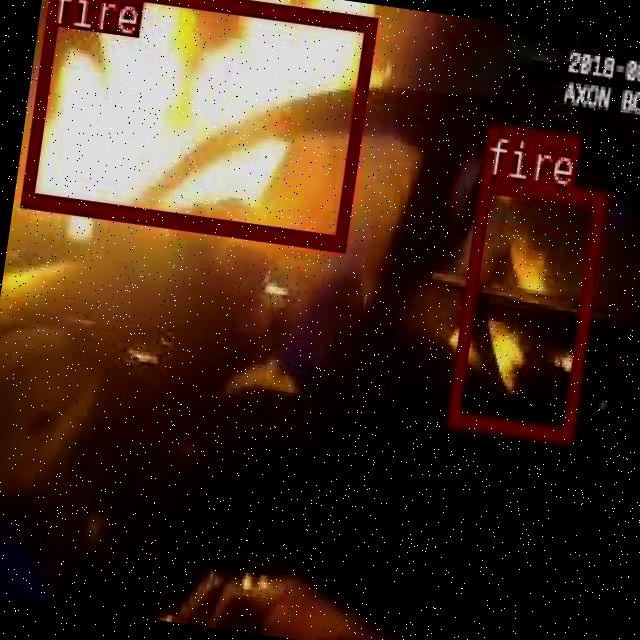fire: (19, 0, 375, 247), (444, 175, 605, 440)
